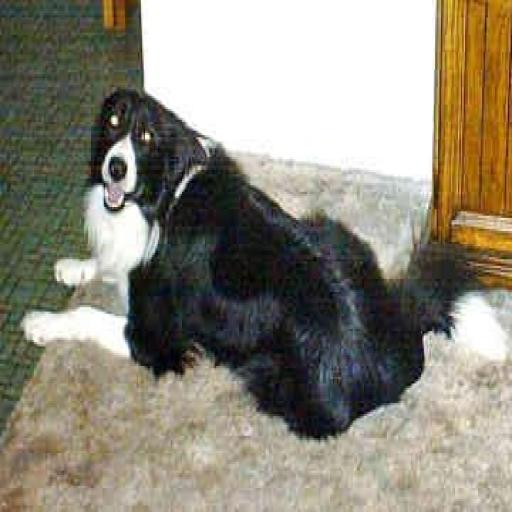dog_face: (84, 83, 192, 220)
